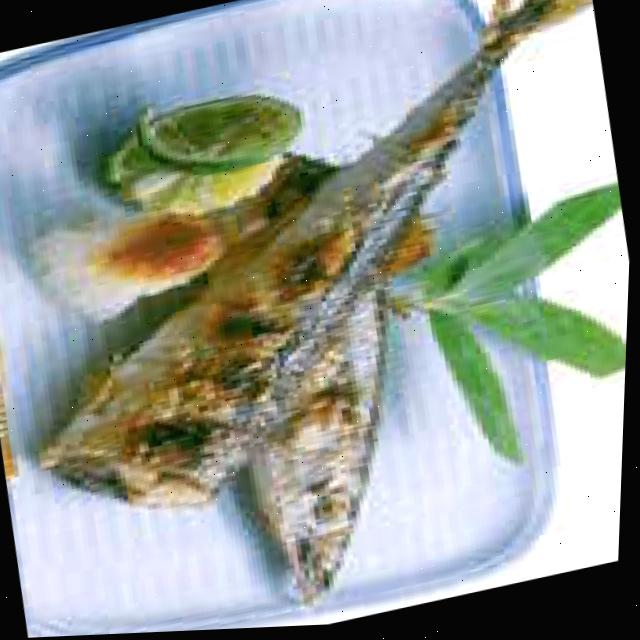熟制海鲜: (5, 0, 615, 639)
